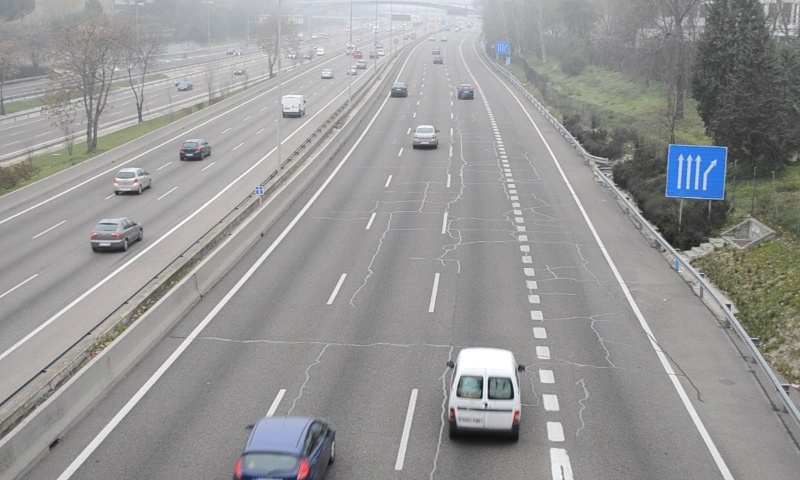car: (235, 418, 334, 480), (412, 124, 437, 149), (390, 82, 408, 99), (457, 84, 474, 99)
van: (447, 348, 520, 441)
